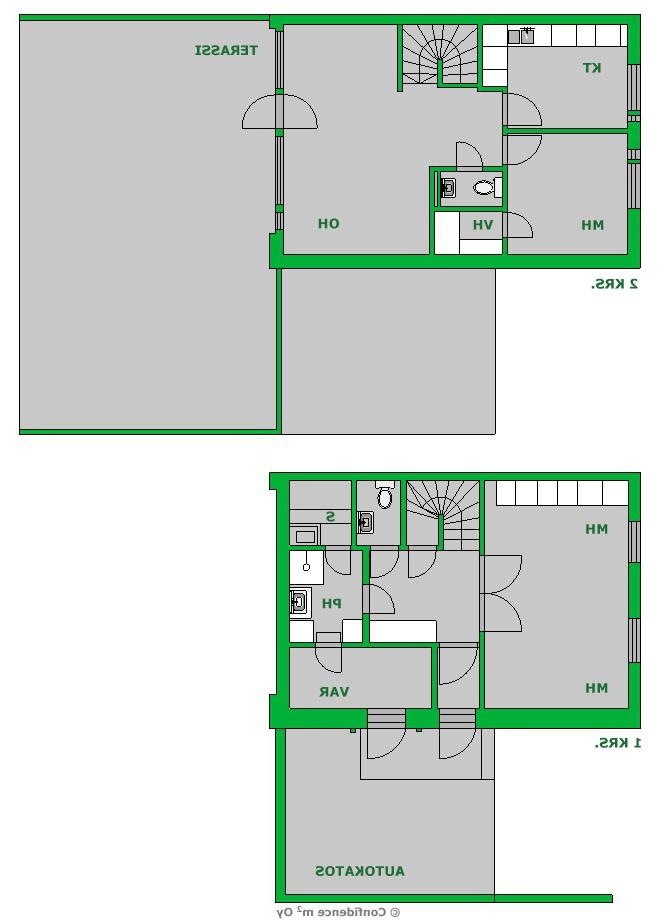bathroom: (357, 479, 404, 548), (435, 169, 503, 206)
door: (477, 548, 528, 594), (432, 640, 478, 691), (239, 89, 288, 135), (476, 592, 526, 636), (361, 718, 407, 764), (279, 90, 325, 134), (433, 717, 479, 758), (498, 88, 544, 128), (500, 132, 544, 168), (362, 546, 401, 584), (314, 630, 346, 674), (404, 542, 440, 580), (319, 544, 354, 582), (364, 582, 396, 620), (449, 138, 488, 168), (500, 212, 537, 242)
perimeter: (274, 471, 644, 722), (272, 16, 642, 266)
stairs: (404, 482, 481, 548), (402, 25, 479, 87)
window: (267, 130, 288, 212), (619, 164, 645, 218), (624, 610, 646, 673), (621, 58, 645, 113), (624, 514, 648, 565), (271, 26, 288, 93), (271, 206, 285, 236), (624, 109, 644, 127), (627, 144, 644, 164)
